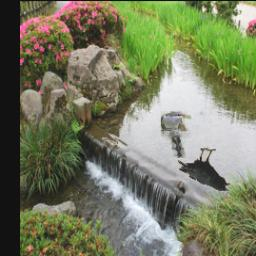Crow: (178, 148, 231, 192)
Cuckoo: (161, 111, 191, 158)
